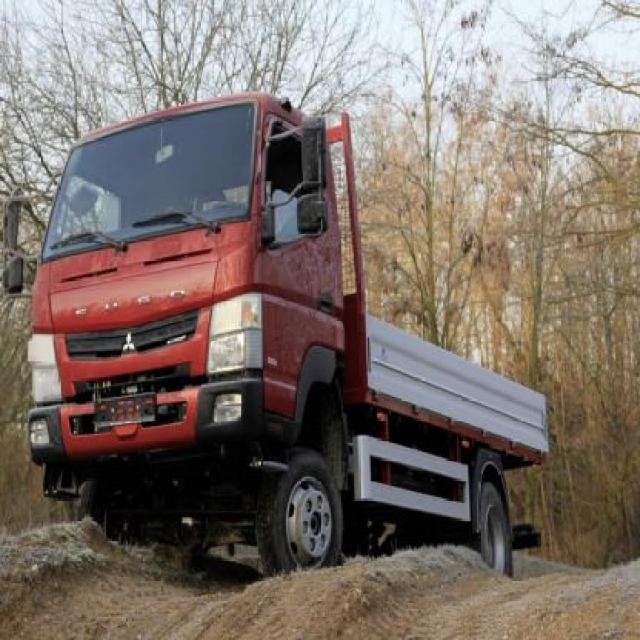truck: (6, 97, 550, 585)
